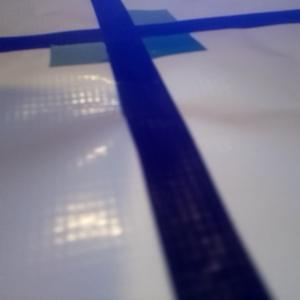bottom_left: (51, 32, 141, 67)
bottom_right: (110, 27, 206, 60)
top_right: (100, 10, 176, 34)
